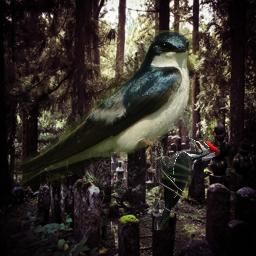Swallow: (11, 30, 194, 191)
Woodpecker: (154, 136, 220, 230)
